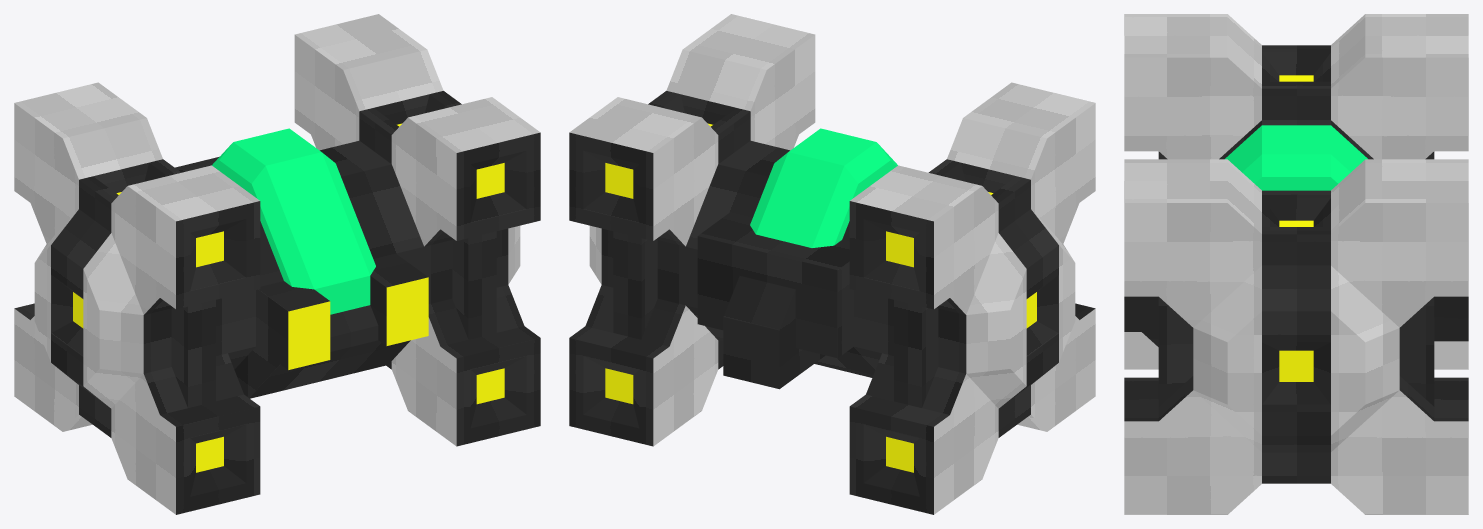
File: enemy1.glb
3 views of the same model, side by side, from view 1: azimuth 30°, elevation 25°; view 2: azimuth 150°, elevation 25°; view 3: azimuth 270°, elevation 25° (orthographic). The views are drawn at different scales.
Parts seen in each view (by area): view 1: Object_4; view 2: Object_4; view 3: Object_4.
Part boxes in pixels (x1,y1,x2,y2): Object_4: (14, 14, 540, 514); Object_4: (569, 14, 1095, 514); Object_4: (1124, 14, 1468, 514).
Bounding box in the file's own units: 0.6 × 0.4 × 0.4.
1 material, 1 textured.
